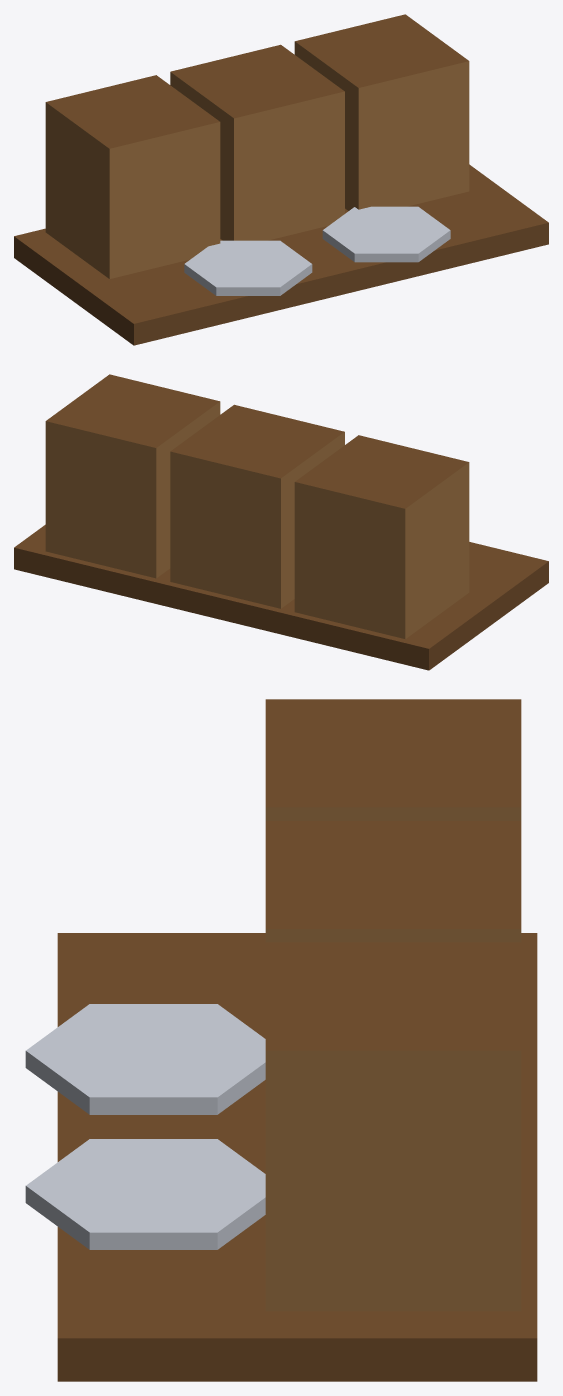
File: cajas_segmentos.obj
3 renders of one model, top to bottom at view 1: azimuth 30°, elevation 25°; view 2: azimuth 150°, elevation 25°; view 3: azimuth 270°, elevation 25°, orthographic. The views are drawn at different scales.
Visible parts, largest first — view 1: cajas_segmentos; view 2: cajas_segmentos; view 3: cajas_segmentos.
Part boxes in pixels (box(x1,y1,x2,y2)): cajas_segmentos: box(14, 14, 548, 345); cajas_segmentos: box(14, 374, 548, 670); cajas_segmentos: box(25, 699, 537, 1381).
Bounding box in the file's own units: 6 × 2.1 × 3.2.
